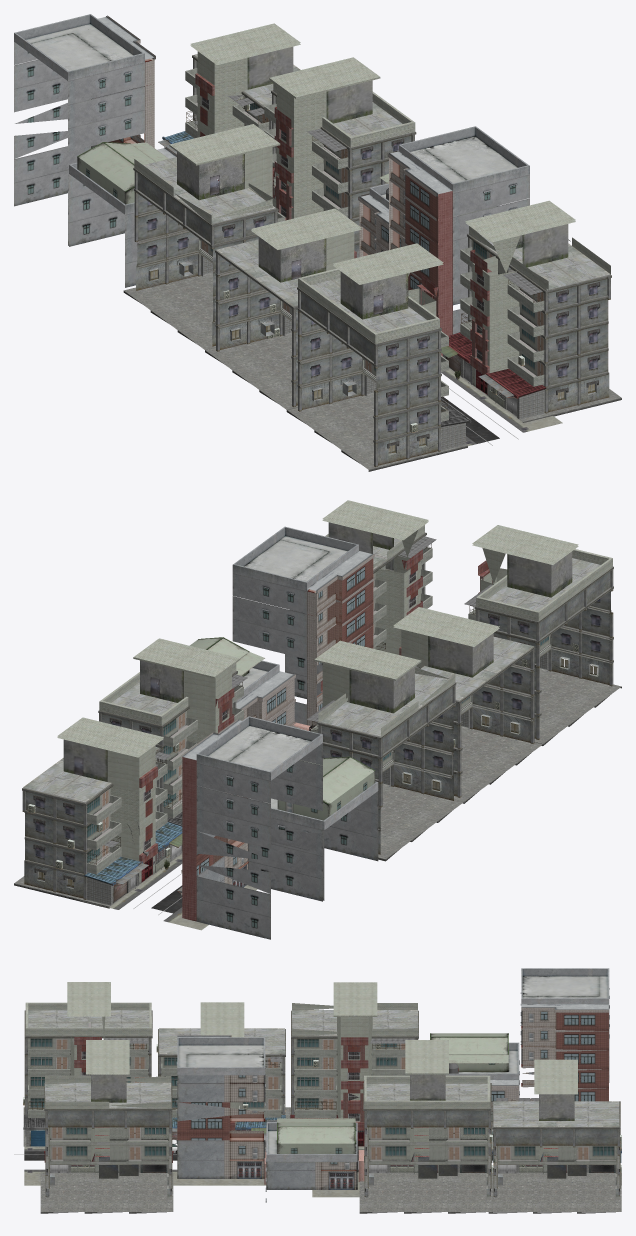
Rendered from city-street-block.glb.
3 views of the same model, one above another, from view 1: azimuth 30°, elevation 25°; view 2: azimuth 150°, elevation 25°; view 3: azimuth 270°, elevation 25° (orthographic). The views are drawn at different scales.
Visible parts, largest first — view 1: S_Taiwanoldapt_2_001_I_Taiwanoldapt_2_001_04_0_461, S_Taiwanoldapt_2_06_I_Taiwanoldapt_2_001_04_0_610, Object01_ApartmentAA2_0_277, S_ApartmentAA_2_001_1_ApartmentAA_0_395, Object41_ApartmentAA2_0_354, Object34_I_Taiwanoldapt_2_001_04_0_333, Object08_I_Taiwanoldapt_2_001_04_0_292, Object18_I_Taiwanoldapt_2_001_04_0_321, Object07_I_Taiwanoldapt_2_001_04_0_290, Object35_I_Taiwanoldapt_2_001_04_0_335, Object22_I_Taiwanoldapt_2_001_04_0_326, Object16_I_Taiwanoldapt_2_001_04_0_315 (+49 smaller); view 2: S_Taiwanoldapt_2_06_I_Taiwanoldapt_2_001_04_0_610, S_Taiwanoldapt_2_001_I_Taiwanoldapt_2_001_04_0_461, S_ApartmentAA_2_001_ApartmentAA2_0_375, S_ApartmentAA_2_001_1_ApartmentAA_0_395, Object01_ApartmentAA2_0_277, Object41_ApartmentAA2_0_354, S_Taiwanoldapt_2_06_i_taiwanoldapt_2_001_022_0_608, Object34_I_Taiwanoldapt_2_001_04_0_333, Object08_I_Taiwanoldapt_2_001_04_0_292, Object18_I_Taiwanoldapt_2_001_04_0_321, Object07_I_Taiwanoldapt_2_001_04_0_290, Object35_I_Taiwanoldapt_2_001_04_0_335 (+41 smaller); view 3: S_Taiwanoldapt_2_06_I_Taiwanoldapt_2_001_04_0_610, S_ApartmentAA_2_001_02_ApartmentAA_0_384, Object19_I_Taiwanoldapt_2_001_04_0_324, Object16_I_Taiwanoldapt_2_001_04_0_315, S_aptground_2_06_aptground_0_662, S_aptground_2_05_aptground_0_613, S_aptground_2_04_aptground_0_549, Object34_I_Taiwanoldapt_2_001_04_0_333, S_Taiwanoldapt_2_001_I_Taiwanoldapt_2_001_04_0_461, Object01_ApartmentAA2_0_277, Object07_I_Taiwanoldapt_2_001_04_0_290, Object41_ApartmentAA2_0_354 (+48 smaller).
Boxes of the visible parts, x1,y1,x2,y2 form: S_Taiwanoldapt_2_001_I_Taiwanoldapt_2_001_04_0_461: (216, 208, 361, 379); S_Taiwanoldapt_2_06_I_Taiwanoldapt_2_001_04_0_610: (190, 23, 300, 137); Object01_ApartmentAA2_0_277: (14, 14, 144, 104); S_ApartmentAA_2_001_1_ApartmentAA_0_395: (69, 142, 185, 287); Object41_ApartmentAA2_0_354: (399, 126, 529, 216); Object34_I_Taiwanoldapt_2_001_04_0_333: (298, 268, 439, 363); Object08_I_Taiwanoldapt_2_001_04_0_292: (169, 124, 280, 200); Object18_I_Taiwanoldapt_2_001_04_0_321: (269, 57, 380, 132); Object07_I_Taiwanoldapt_2_001_04_0_290: (134, 157, 276, 244); Object35_I_Taiwanoldapt_2_001_04_0_335: (333, 243, 443, 319); Object22_I_Taiwanoldapt_2_001_04_0_326: (465, 200, 575, 273); Object16_I_Taiwanoldapt_2_001_04_0_315: (469, 226, 610, 309); S_Taiwanoldapt_2_06_I_Taiwanoldapt_2_001_04_0_610: (23, 717, 163, 873); S_Taiwanoldapt_2_001_I_Taiwanoldapt_2_001_04_0_461: (393, 607, 533, 771); S_ApartmentAA_2_001_ApartmentAA2_0_375: (196, 829, 322, 939); S_ApartmentAA_2_001_1_ApartmentAA_0_395: (252, 756, 378, 900); Object01_ApartmentAA2_0_277: (196, 716, 322, 803); Object41_ApartmentAA2_0_354: (232, 526, 358, 613); S_Taiwanoldapt_2_06_i_taiwanoldapt_2_001_022_0_608: (22, 748, 182, 905); Object34_I_Taiwanoldapt_2_001_04_0_333: (476, 549, 612, 639); Object08_I_Taiwanoldapt_2_001_04_0_292: (314, 640, 421, 713); Object18_I_Taiwanoldapt_2_001_04_0_321: (133, 638, 240, 711); Object07_I_Taiwanoldapt_2_001_04_0_290: (318, 667, 455, 755); Object35_I_Taiwanoldapt_2_001_04_0_335: (472, 525, 578, 597); S_Taiwanoldapt_2_06_I_Taiwanoldapt_2_001_04_0_610: (493, 1059, 619, 1164); S_ApartmentAA_2_001_02_ApartmentAA_0_384: (265, 1118, 357, 1202); Object19_I_Taiwanoldapt_2_001_04_0_324: (364, 1075, 490, 1127); Object16_I_Taiwanoldapt_2_001_04_0_315: (45, 1075, 171, 1127); S_aptground_2_06_aptground_0_662: (40, 1172, 173, 1213); S_aptground_2_05_aptground_0_613: (359, 1172, 492, 1213); S_aptground_2_04_aptground_0_549: (488, 1172, 621, 1213); Object34_I_Taiwanoldapt_2_001_04_0_333: (25, 1002, 151, 1052); S_Taiwanoldapt_2_001_I_Taiwanoldapt_2_001_04_0_461: (159, 1002, 285, 1125); Object01_ApartmentAA2_0_277: (520, 968, 609, 1025); Object07_I_Taiwanoldapt_2_001_04_0_290: (292, 1003, 418, 1052); Object41_ApartmentAA2_0_354: (176, 1037, 265, 1075).
Size of the model in its own units: 37.38 by 21.84 by 84.5.
Materials: 56 (55 with a texture image).
